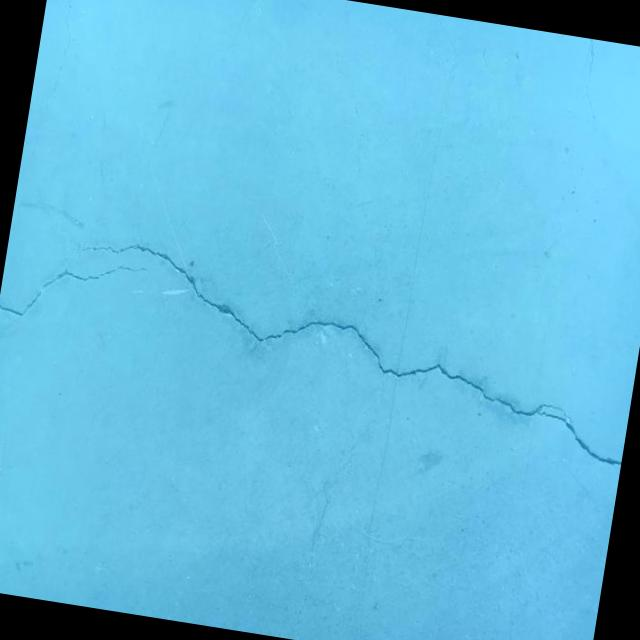crack: (57, 234, 640, 467), (0, 246, 151, 336)
